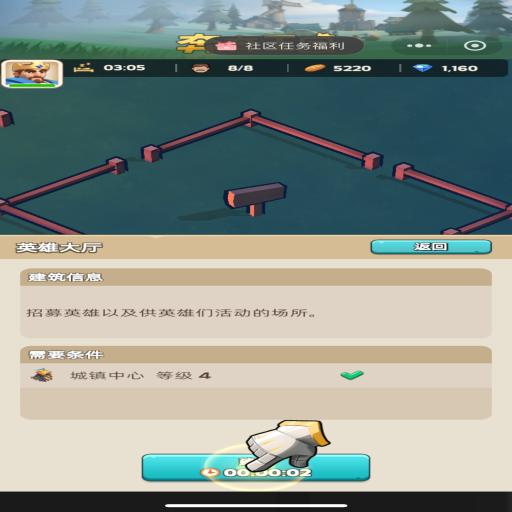newcomer_hand: (242, 419, 330, 471)
